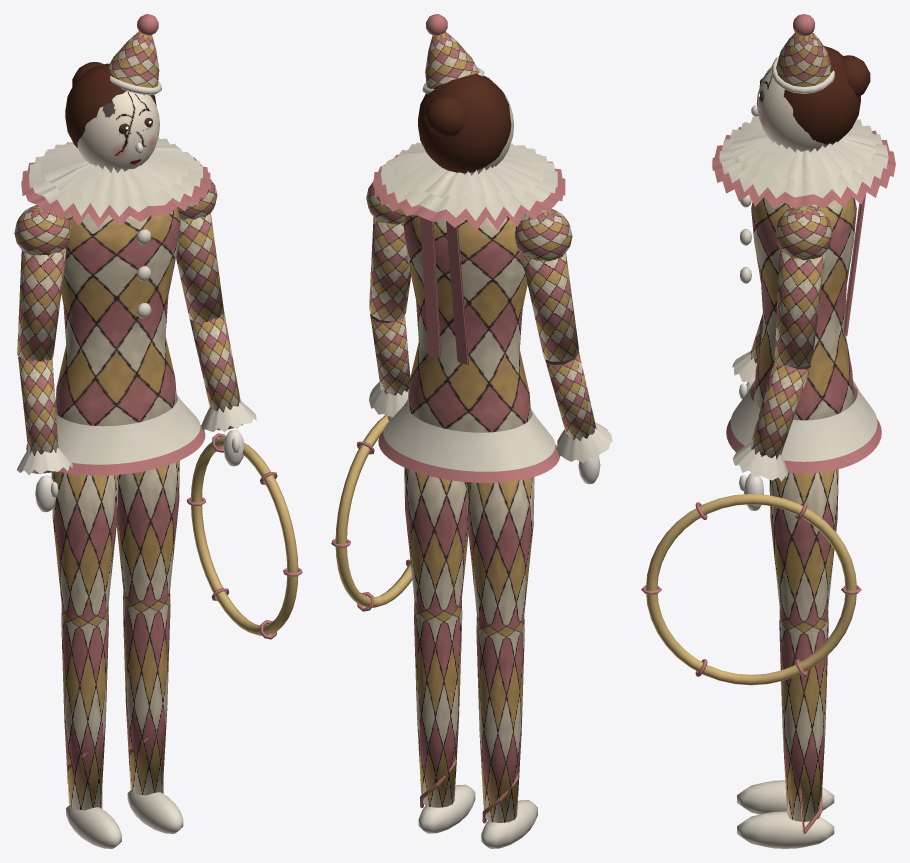
File: porcelain_acrobat.glb
The picture shows the model from 3 angles, left to right: view 1: azimuth 30°, elevation 25°; view 2: azimuth 150°, elevation 25°; view 3: azimuth 270°, elevation 25°; orthographic projection. The views are drawn at different scales.
Parts seen in each view (by area): view 1: Leotard, TightsLegA, TightsLegB, Acrobat_Root_CreamLace, ArmA_FadedHarlequin, ArmB_FadedHarlequin, Hoop, Face, Acrobat_Root_FadedRose, Head_AuburnHair, Cap, SlipperLegB (+6 smaller); view 2: Leotard, TightsLegA, TightsLegB, Acrobat_Root_CreamLace, ArmA_FadedHarlequin, Head_AuburnHair, ArmB_FadedHarlequin, Acrobat_Root_FadedRose, Tail_FadedRose, Hoop, Cap, SlipperLegB (+3 smaller); view 3: TightsLegB, Acrobat_Root_CreamLace, Leotard, ArmB_FadedHarlequin, Hoop, Head_AuburnHair, Acrobat_Root_FadedRose, SlipperLegB, Face, Cap, SlipperLegA, CuffFrillArmB (+5 smaller).
Boxes of the visible parts, x1,y1,x2,y2 form: Leotard: (55,207,180,426); TightsLegA: (51,471,118,810); TightsLegB: (116,460,179,795); Acrobat_Root_CreamLace: (29,137,202,464); ArmA_FadedHarlequin: (14,205,71,473); ArmB_FadedHarlequin: (176,179,242,430); Hoop: (191,437,298,635); Face: (77,91,159,172); Acrobat_Root_FadedRose: (21,148,210,475); Head_AuburnHair: (65,62,156,147); Cap: (109,31,159,87); SlipperLegB: (127,790,183,833); Leotard: (403,214,531,432); TightsLegA: (466,477,534,822); TightsLegB: (404,467,468,807); Acrobat_Root_CreamLace: (381,142,557,471); ArmA_FadedHarlequin: (514,208,596,440); Head_AuburnHair: (418,73,511,173); ArmB_FadedHarlequin: (366,182,411,395); Acrobat_Root_FadedRose: (373,154,565,482); Tail_FadedRose: (420,216,469,364); Hoop: (335,415,412,607); Cap: (425,31,478,88); SlipperLegB: (418,784,475,833); TightsLegB: (769,469,838,821); Acrobat_Root_CreamLace: (719,116,888,461); Leotard: (751,196,856,420); ArmB_FadedHarlequin: (749,205,832,470); Hoop: (646,494,856,685); Head_AuburnHair: (783,46,870,144); Acrobat_Root_FadedRose: (712,127,895,473); SlipperLegB: (737,811,834,848); Face: (756,67,828,152); Cap: (776,32,831,86); SlipperLegA: (737,780,834,814); CuffFrillArmB: (732,442,788,481).
Size of the model in its own units: 0.5289 by 1.75 by 0.4848.
9 materials, 2 textured.
